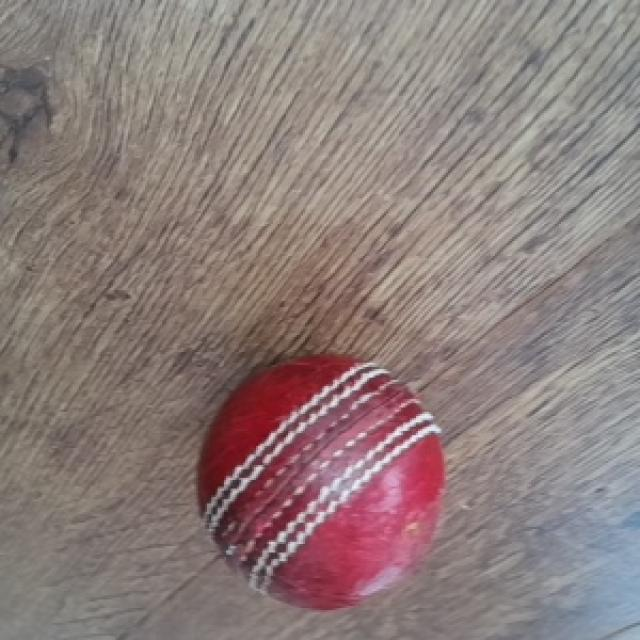ball: (194, 356, 448, 614)
